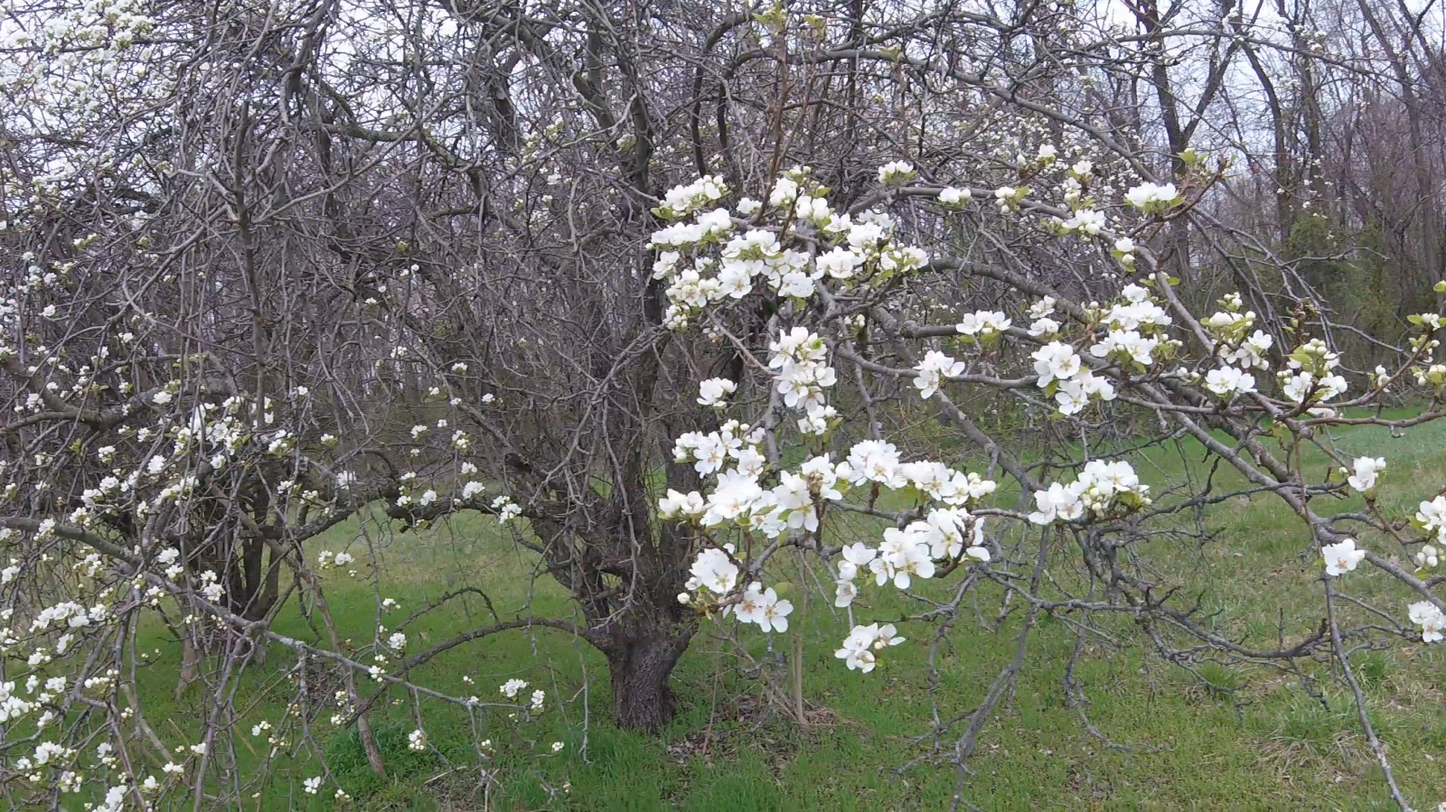flower: (801, 440, 997, 608), (653, 188, 897, 309), (658, 419, 819, 539), (766, 327, 842, 435), (1028, 460, 1152, 525), (1090, 284, 1173, 365), (1032, 341, 1118, 416), (1206, 330, 1273, 399), (644, 209, 751, 249), (835, 623, 906, 674), (733, 582, 794, 633), (685, 548, 739, 604), (660, 173, 728, 211), (914, 350, 966, 399), (1283, 372, 1350, 405), (1048, 209, 1107, 238), (1322, 539, 1368, 576), (1408, 601, 1446, 642), (1026, 295, 1063, 337), (1416, 496, 1446, 545), (1124, 181, 1179, 207), (956, 311, 1012, 336), (1348, 457, 1386, 492), (698, 378, 738, 409), (768, 176, 798, 207), (874, 160, 914, 183), (901, 244, 931, 274), (1413, 364, 1446, 386), (937, 186, 972, 206), (995, 186, 1019, 215), (1210, 313, 1244, 327), (1415, 546, 1438, 566), (737, 198, 763, 215), (1421, 313, 1443, 331), (1035, 145, 1059, 161), (966, 547, 991, 562), (1073, 161, 1095, 178), (1115, 238, 1139, 253), (973, 517, 985, 546), (745, 428, 766, 444), (1376, 365, 1391, 387), (1225, 293, 1244, 310), (881, 251, 897, 271), (1324, 337, 1338, 359), (1324, 359, 1339, 370), (1287, 359, 1303, 369), (723, 544, 735, 555), (678, 593, 690, 604), (1245, 312, 1256, 321), (897, 216, 903, 228), (740, 425, 750, 431), (729, 233, 734, 239)
